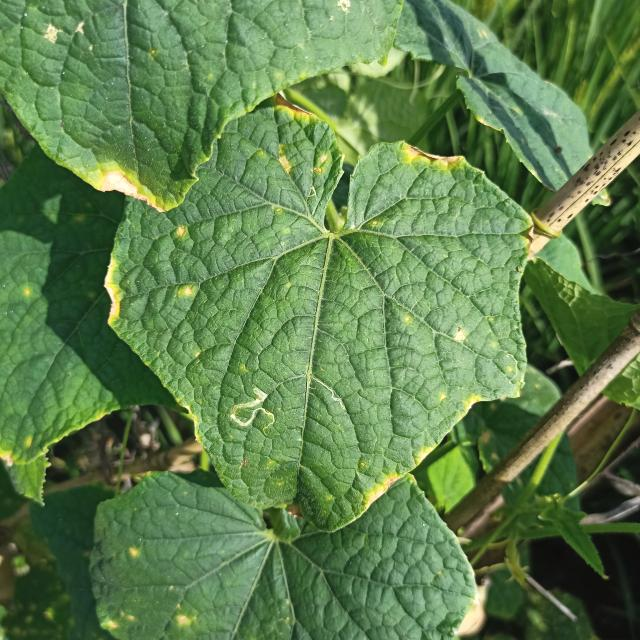disease_cucumber: (269, 95, 340, 181), (436, 385, 487, 420), (453, 327, 476, 344), (173, 222, 190, 242), (180, 283, 196, 301)
